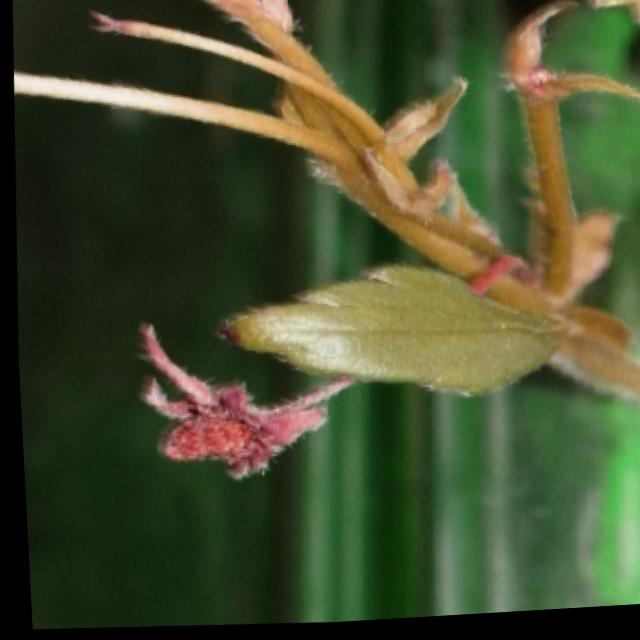Gray Mold: (135, 323, 323, 486)
